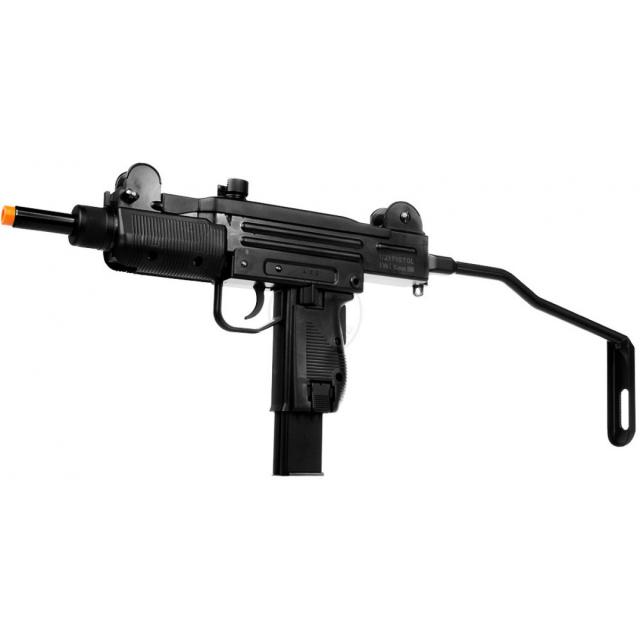SMG: (0, 163, 431, 477)
